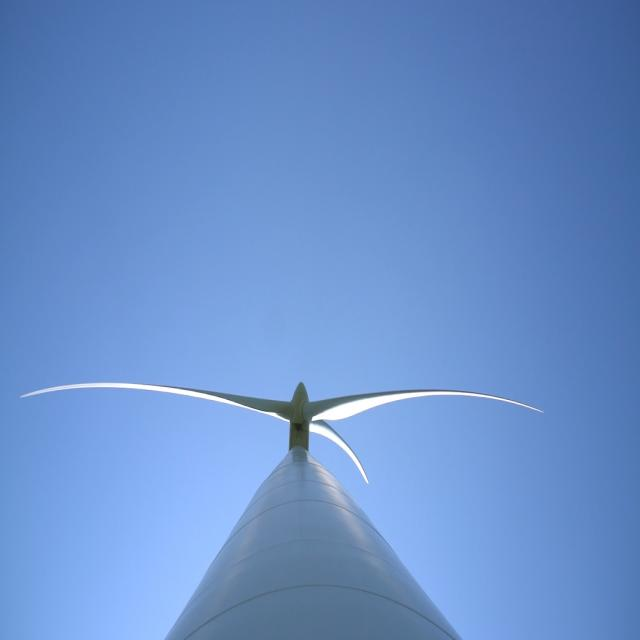blade 1: (15, 350, 267, 412)
blade 2: (344, 368, 549, 438)
blade 3: (317, 426, 340, 453)
